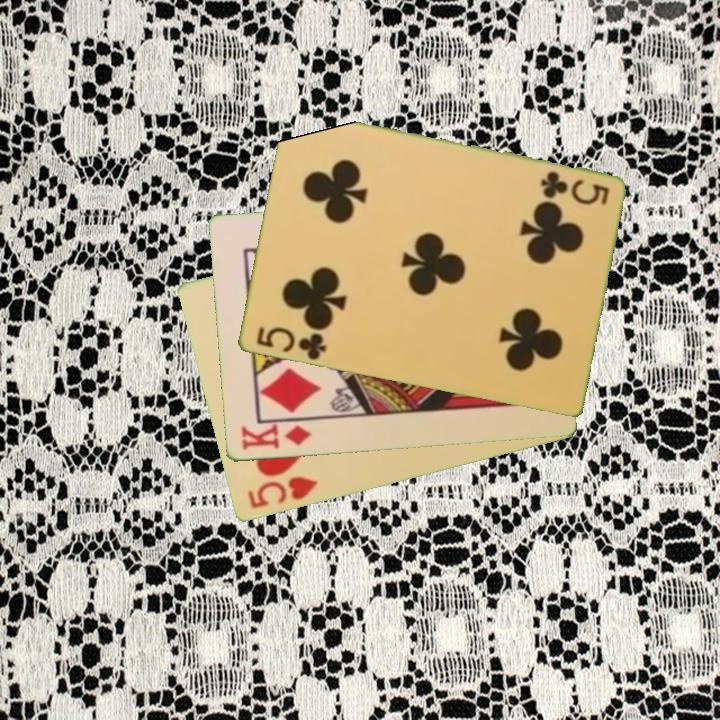5c: (252, 323, 329, 363), (536, 168, 611, 209)
5h: (243, 473, 320, 512)
Kd: (237, 421, 314, 453)
